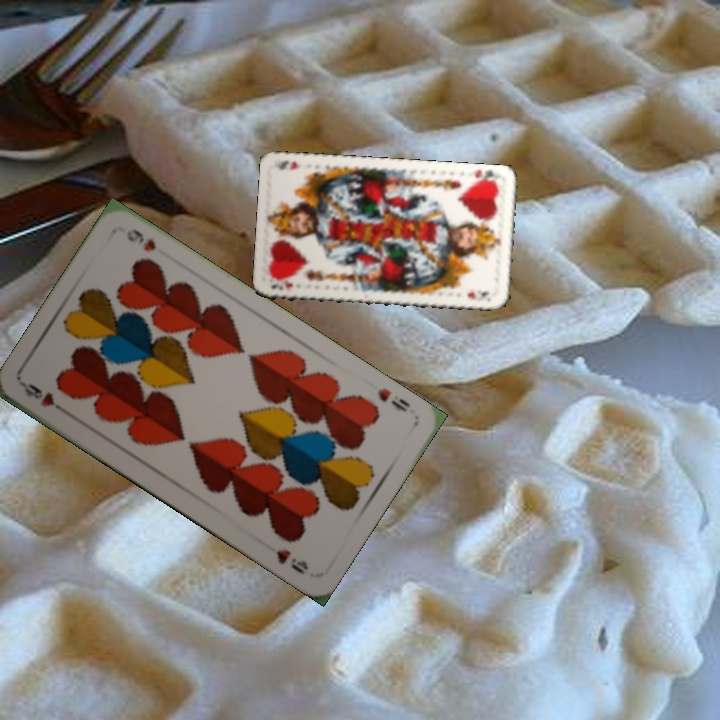H9: (19, 379, 72, 418), (373, 384, 413, 415)
HK: (467, 166, 500, 187), (267, 275, 295, 293)
